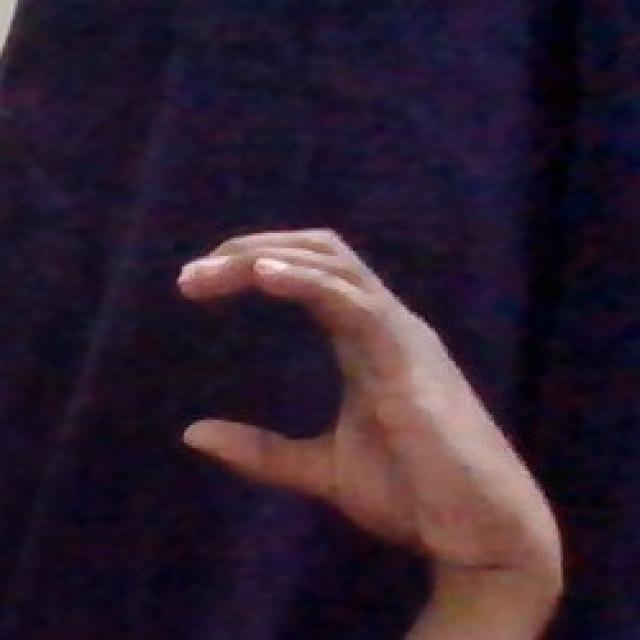Alphabet-C: (164, 220, 570, 587)
